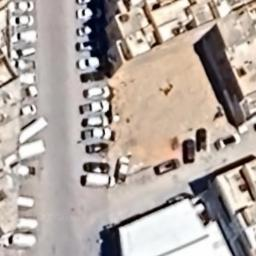SUV: (3, 232, 38, 251), (6, 28, 42, 46), (77, 54, 111, 72), (83, 85, 114, 100), (85, 114, 112, 128)
pickup: (78, 98, 112, 115), (80, 127, 116, 143), (9, 57, 41, 74), (115, 153, 132, 184)
sedan: (154, 156, 182, 178), (74, 22, 106, 40), (83, 160, 116, 176), (7, 13, 37, 28), (82, 142, 112, 156), (74, 7, 106, 20), (6, 0, 35, 14), (16, 102, 39, 118), (196, 126, 208, 154), (183, 138, 195, 164)
unknown: (16, 115, 50, 145), (212, 130, 241, 156), (17, 140, 48, 162), (16, 69, 42, 87), (76, 38, 106, 52), (18, 82, 40, 101), (79, 69, 106, 84), (16, 194, 37, 213), (14, 216, 40, 230), (18, 164, 39, 180)
van: (82, 174, 118, 190)
